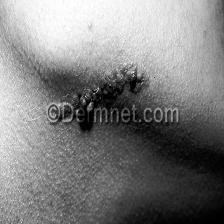Benign Marking or Mole: (54, 63, 152, 136)
